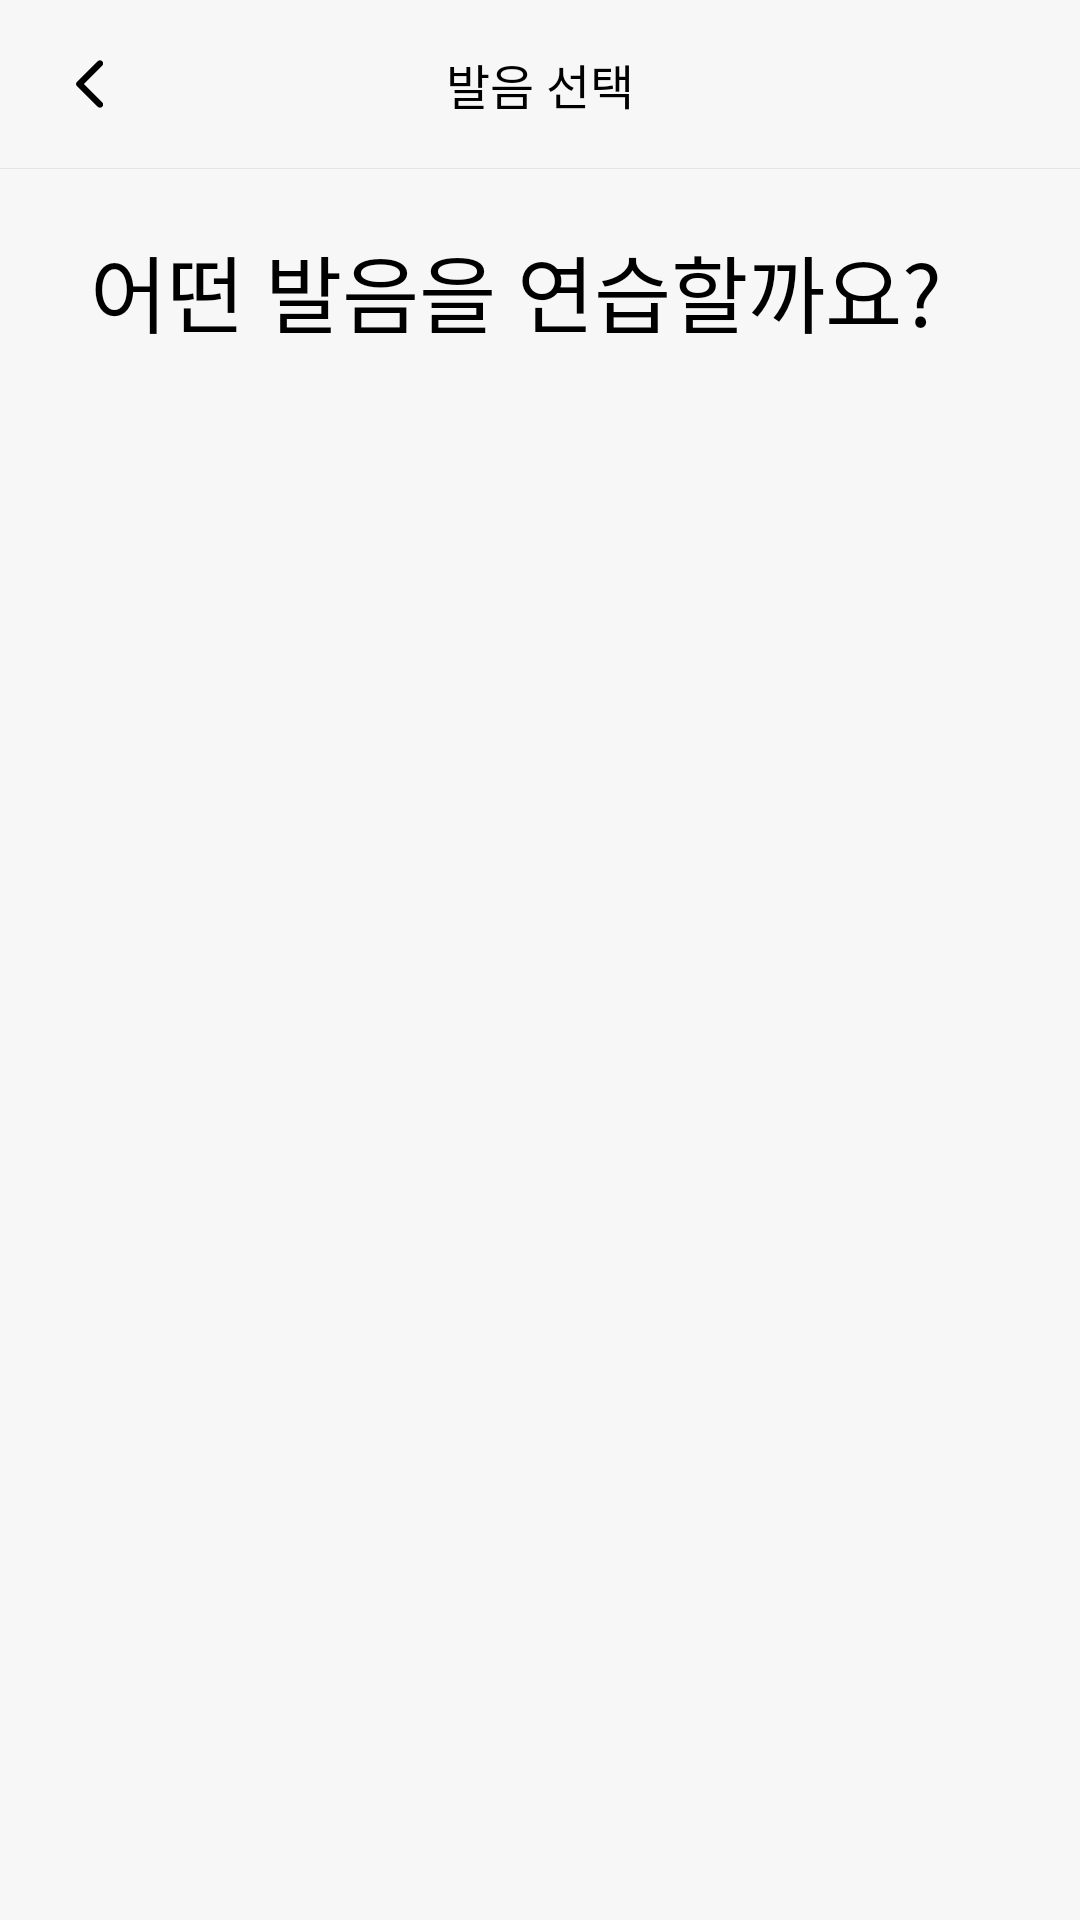

Icons on this 1080x1920 Android screen, each with its box as (x1, y1, x2, y2):
arrow back: (76, 60, 103, 108)
